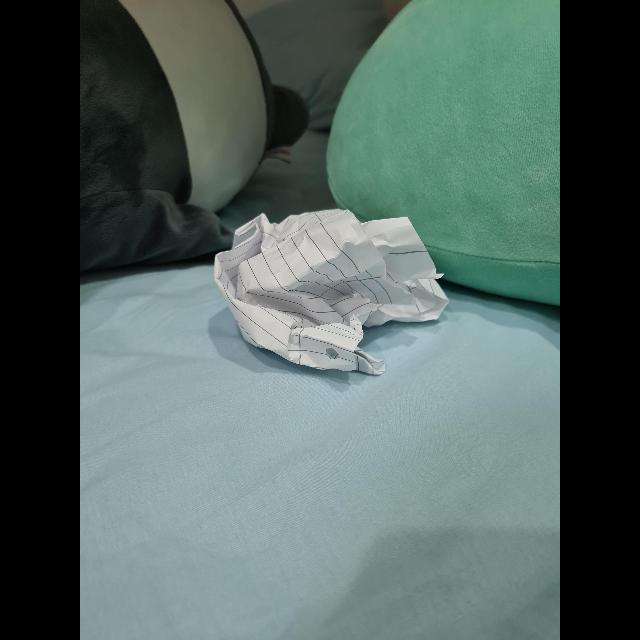scrap_paper: (208, 198, 444, 378)
